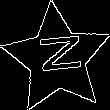N_W: (30, 36, 83, 81)
